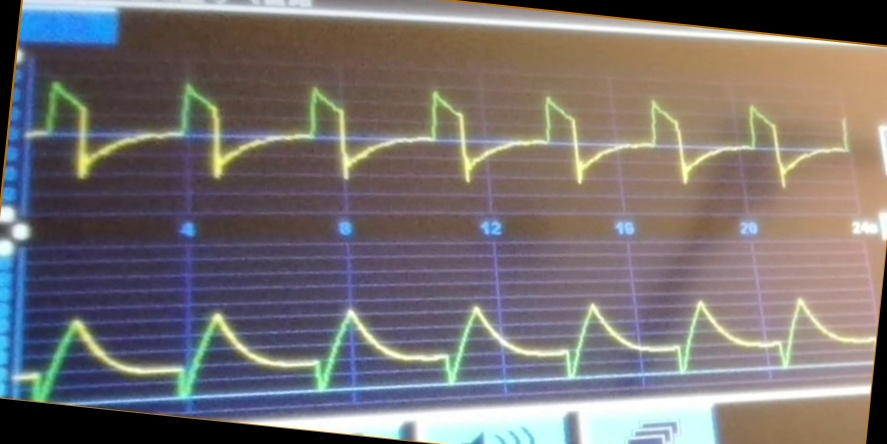Flow: (33, 77, 850, 208)
Leakage Volume: (23, 286, 861, 395)
